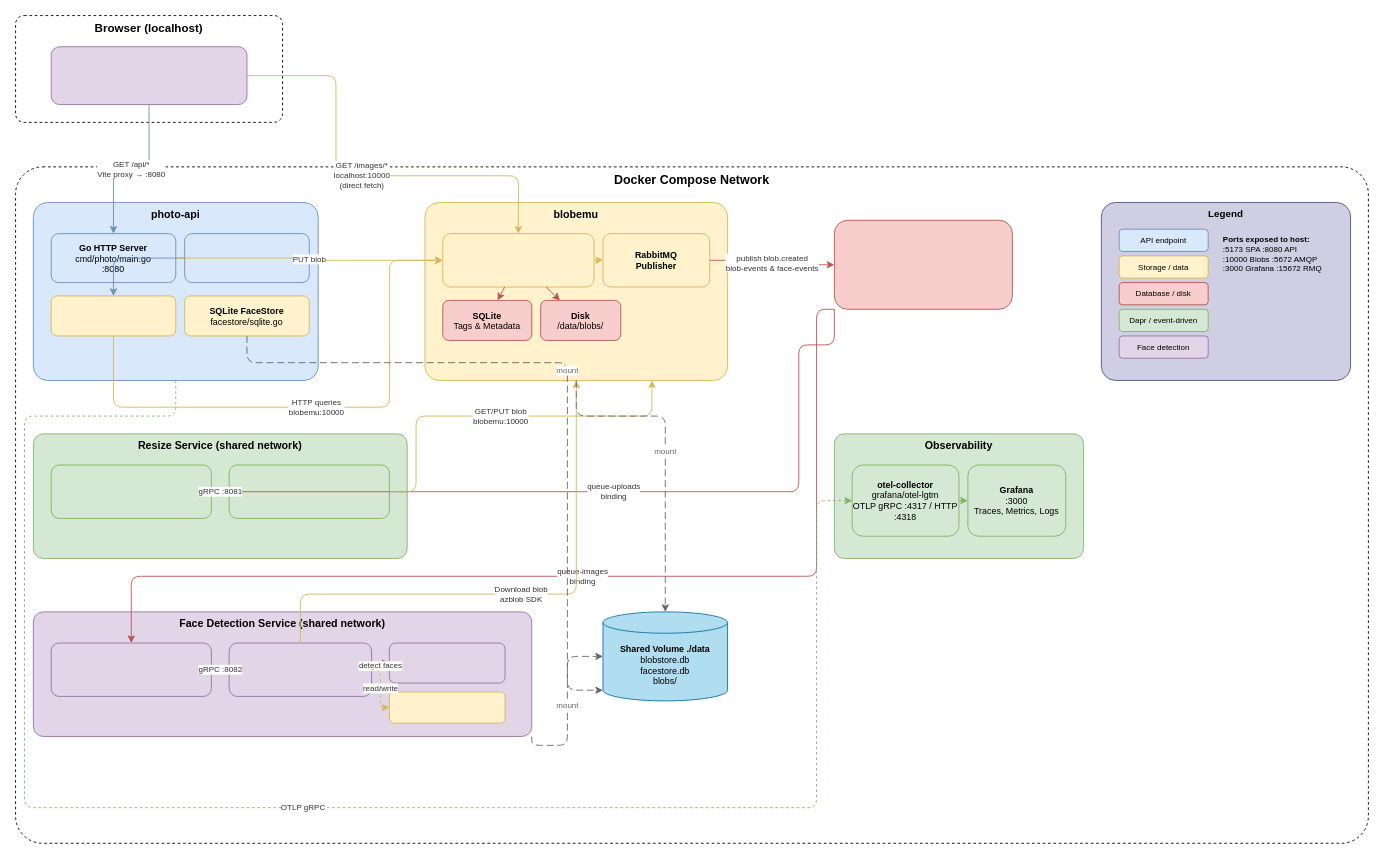
The diagram is 1384 pixels wide and 859 high, and some of its shapes have lost their labels. Here are the shapes that lost their labels. From the top down, the centre of each, then its label:
At pixel 148 75: "photo-spa Vite Dev Server :5173 React + TypeScript".
At pixel 246 258: "Handlers collection / album / photo".
At pixel 518 260: "Go HTTP Server REST API :10000 POST /query, GET/PUT blobs".
At pixel 922 264: "RabbitMQ AMQP :5672 Mgmt UI :15672 blob-events exchange face-events exchange".
At pixel 113 315: "LocalBlobStore internal/storage/local.go".
At pixel 130 491: "resize-dapr Dapr Sidecar HTTP :3500 / gRPC :50001".
At pixel 308 491: "resize-api Go gRPC Service :8081 cmd/resize/main.go".
At pixel 130 669: "face-dapr Dapr Sidecar HTTP :3501 / gRPC :50002".
At pixel 300 669: "face-api Go gRPC Service :8082 cmd/face/main.go".
At pixel 446 662: "Pigo Detector Cascade Files".
At pixel 446 707: "SQLite FaceStore".
